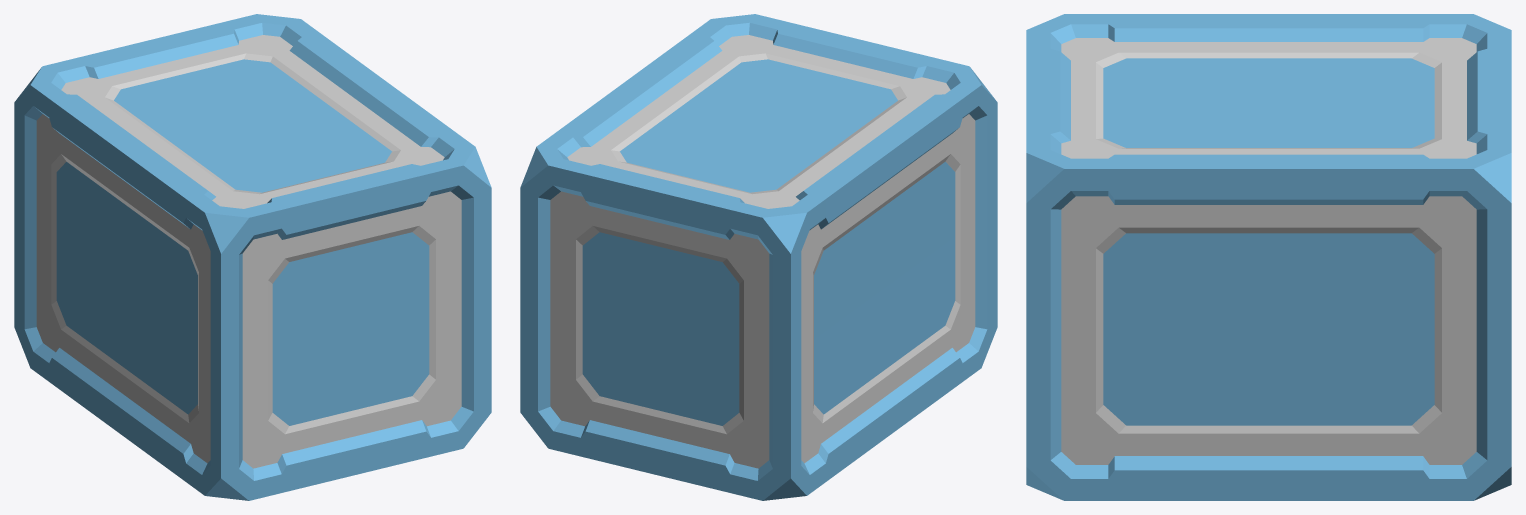
Rendered from crate blue med.fbx.
3 renders of one model, left to right at view 1: azimuth 30°, elevation 25°; view 2: azimuth 150°, elevation 25°; view 3: azimuth 270°, elevation 25°, orthographic. The views are drawn at different scales.
Visible parts, largest first — view 1: Crate Medium.004; view 2: Crate Medium.004; view 3: Crate Medium.004.
Part boxes in pixels (bbox=[...]): Crate Medium.004: bbox=[14, 14, 491, 500]; Crate Medium.004: bbox=[520, 14, 997, 500]; Crate Medium.004: bbox=[1026, 14, 1511, 500].
Size of the model in its own units: 75.5 by 75.5 by 100.
